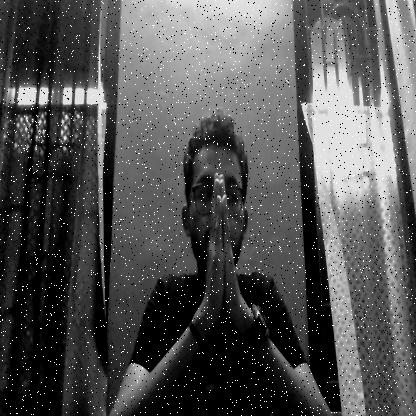Distracted: (177, 111, 246, 293)
